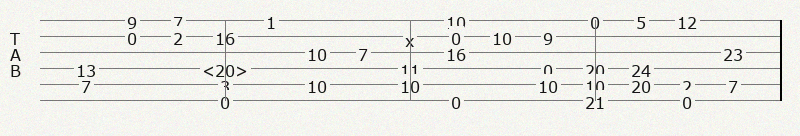0: (127, 28, 141, 44), (220, 92, 234, 108), (451, 92, 465, 108), (451, 28, 465, 44), (543, 60, 557, 76), (590, 12, 604, 28), (682, 92, 696, 108)
1: (266, 12, 280, 28)
10: (307, 44, 331, 60), (307, 76, 331, 92), (400, 76, 424, 92), (446, 12, 470, 28), (492, 28, 516, 44), (538, 76, 562, 92), (585, 76, 609, 92)
11: (400, 60, 424, 76)
12: (677, 12, 701, 28)
13: (76, 60, 100, 76)
16: (215, 28, 239, 44), (446, 44, 470, 60)
2: (173, 28, 187, 44), (682, 76, 696, 92)
20: (585, 60, 609, 76), (631, 76, 655, 92)
21: (585, 92, 609, 108)
23: (723, 44, 747, 60)
24: (631, 60, 655, 76)
3: (220, 76, 234, 92)
5: (636, 12, 650, 28)
7: (81, 76, 95, 92), (173, 12, 187, 28), (358, 44, 372, 60), (728, 76, 742, 92)
9: (127, 12, 141, 28), (543, 28, 557, 44)
harmonic: (202, 60, 252, 76)
x: (405, 30, 418, 43)
